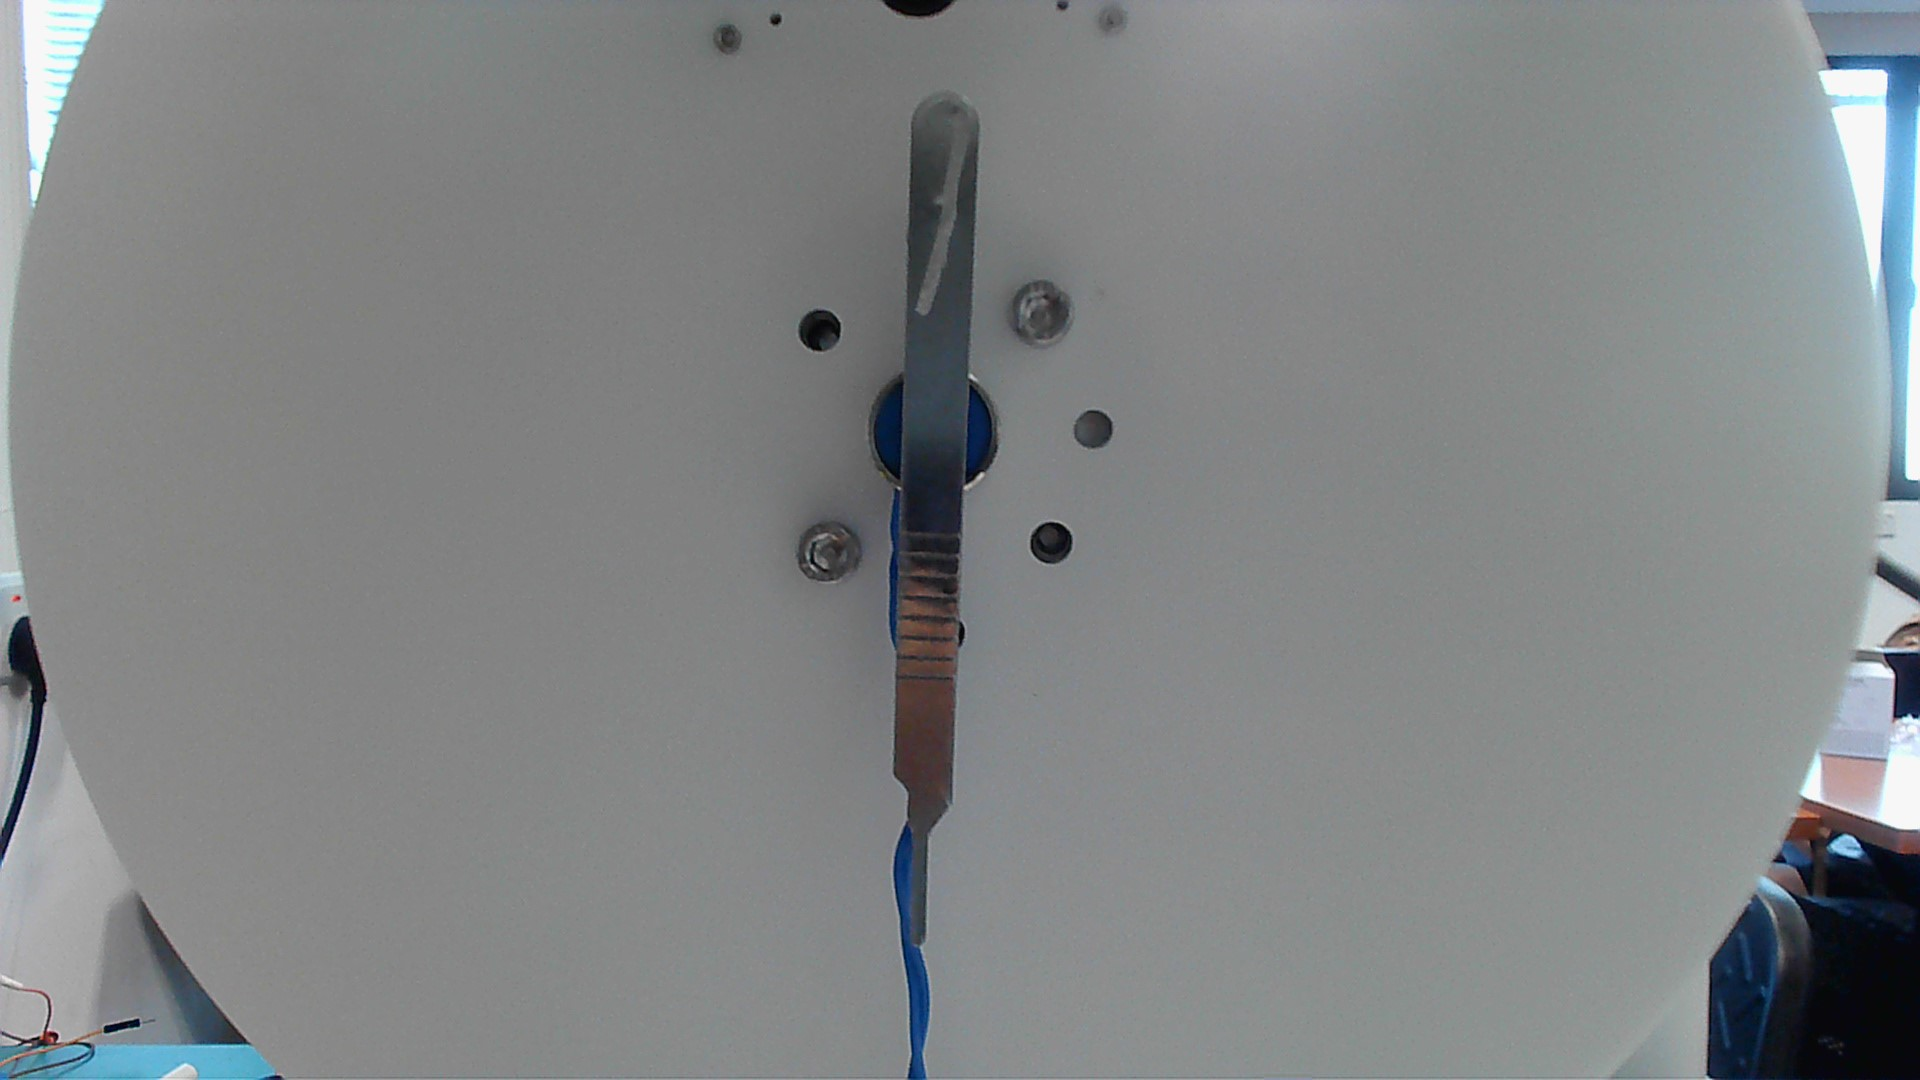Scratches: (905, 115, 980, 326)
